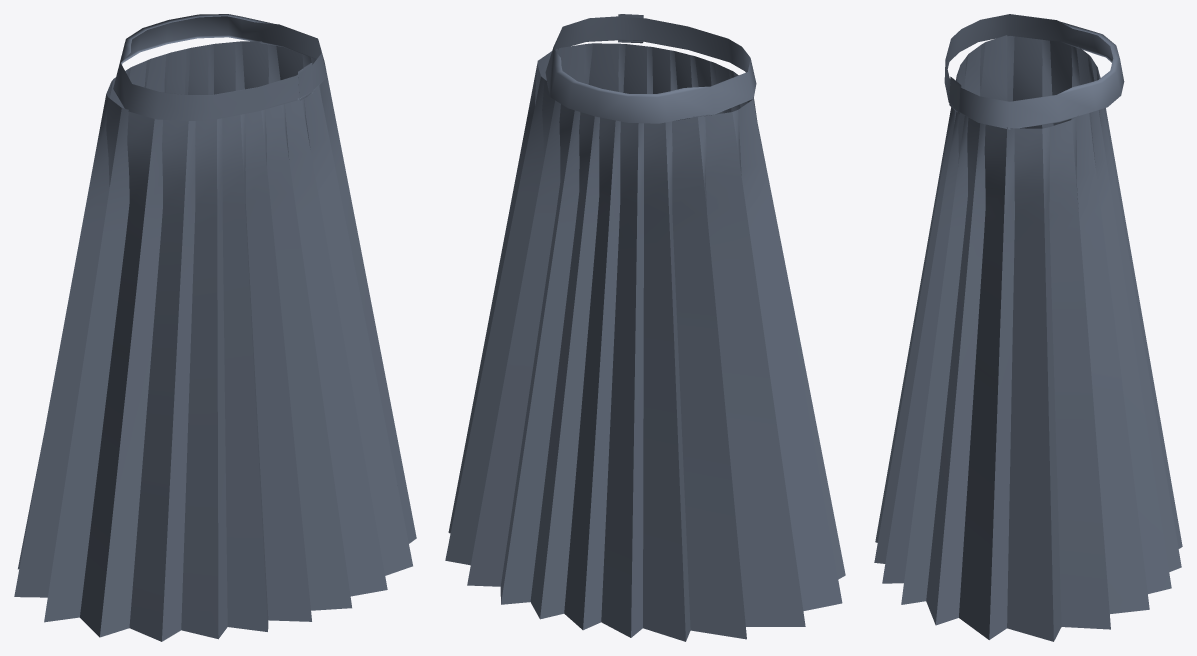
The model's file is long-skirt-only.glb.
3 views of the same model, side by side, from view 1: azimuth 30°, elevation 25°; view 2: azimuth 150°, elevation 25°; view 3: azimuth 270°, elevation 25° (orthographic). The views are drawn at different scales.
Visible parts, largest first — view 1: Lowerwear_long-skirt; view 2: Lowerwear_long-skirt; view 3: Lowerwear_long-skirt.
Part boxes in pixels (bbox=[...]): Lowerwear_long-skirt: bbox=[14, 14, 416, 641]; Lowerwear_long-skirt: bbox=[445, 14, 845, 641]; Lowerwear_long-skirt: bbox=[874, 14, 1182, 641].
Size of the model in its own units: 1.6 by 2.13 by 1.2.
